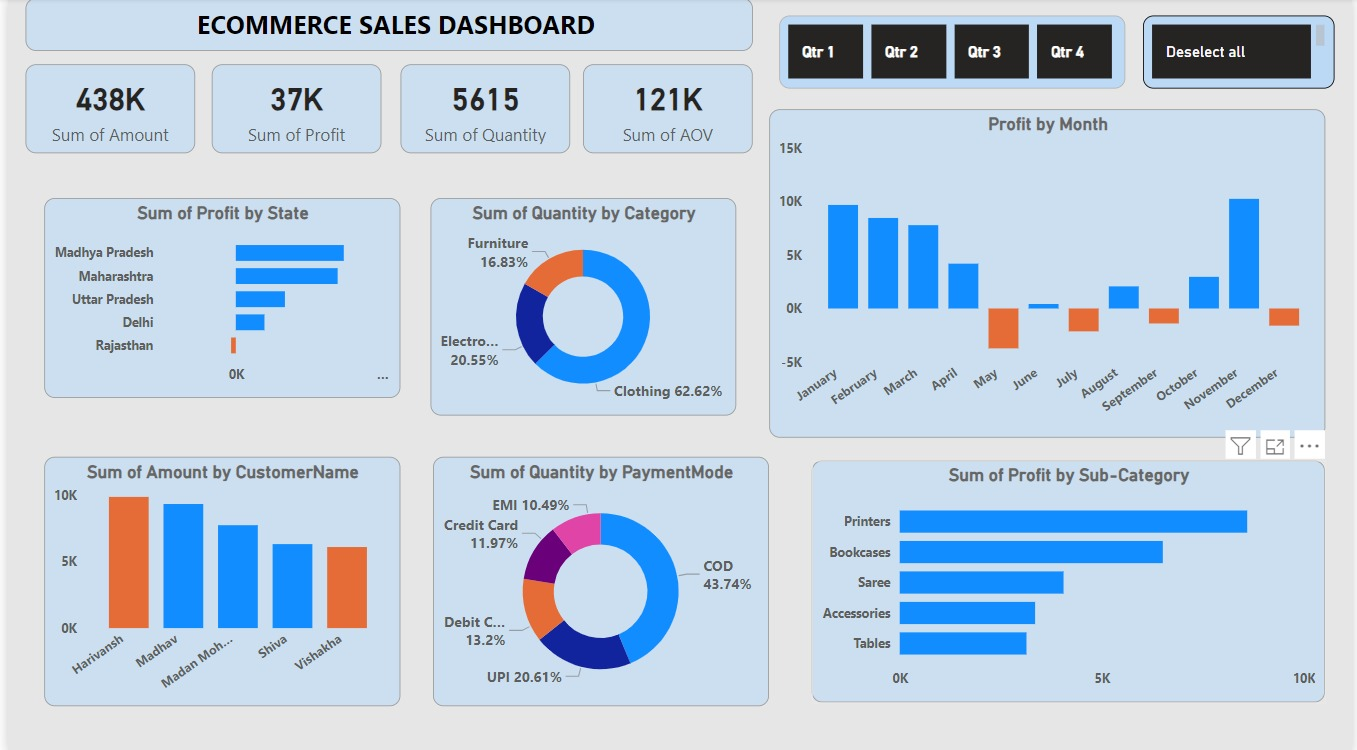

What the dashboard file says about the page in this screenshot:
{"tool":"powerbi","page":{"name":"Page 1","canvas":[1280,720],"ordinal":0},"visuals":[{"type":"textbox","box":[16.5,0,693,50.8],"z":0},{"type":"columnChart","title":"Profit by Month","fields":{"Category":["Orders.Order Date.Variation.Date Hierarchy.Month"],"Y":["Details.Profit"]},"box":[724.5,105.7,529.7,312.9],"z":1000},{"type":"barChart","fields":{"Category":["Details.Sub-Category"],"Y":["Details.Profit"]},"box":[765.7,440.5,488.5,230.5],"z":2000},{"type":"donutChart","fields":{"Category":["Details.Category"],"Y":["Details.Quantity"]},"box":[402.1,190.7,290.9,207.2],"z":3000},{"type":"donutChart","fields":{"Y":["Details.Quantity"],"Category":["Details.PaymentMode"]},"box":[404.8,436.4,319.7,237.4],"z":4000},{"type":"card","fields":{"Values":["Details.Amount"]},"box":[16.5,63.1,161.9,85.1],"z":5000},{"type":"card","fields":{"Values":["Details.Profit"]},"box":[193.5,63.1,161.9,85.1],"z":6000},{"type":"card","fields":{"Values":["Details.Quantity"]},"box":[373.2,63.1,161.9,85.1],"z":7000},{"type":"card","fields":{"Values":["Details.AOV"]},"box":[547.5,63.1,161.9,85.1],"z":8000},{"type":"barChart","fields":{"Category":["Orders.State"],"Y":["Details.Profit"]},"box":[34.3,190.7,338.9,190.7],"z":9000},{"type":"columnChart","fields":{"Category":["Orders.CustomerName"],"Y":["Details.Amount"]},"box":[34.3,436.4,338.9,237.4],"z":10000},{"type":"advancedSlicerVisual","fields":{"Values":["Orders.Order Date.Variation.Date Hierarchy.Quarter"]},"box":[734.1,16.5,329.3,70],"z":11000},{"type":"advancedSlicerVisual","fields":{"Values":["Orders.State"]},"box":[1081.3,16.5,182.5,70],"z":12000}]}

Visuals, with their boxes in screenshot pixels (x1, y1, x2, y2), scaled from the page's 1280x720 canvas onto the 1357x750 screenshot:
textbox: <box>17,0,752,53</box>
"Profit by Month" columnChart: <box>768,110,1330,436</box>
barChart - Details.Sub-Category x Details.Profit: <box>812,459,1330,699</box>
donutChart - Details.Category x Details.Quantity: <box>426,199,735,414</box>
donutChart - Details.Quantity x Details.PaymentMode: <box>429,455,768,702</box>
card - Details.Amount: <box>17,66,189,154</box>
card - Details.Profit: <box>205,66,377,154</box>
card - Details.Quantity: <box>396,66,567,154</box>
card - Details.AOV: <box>580,66,752,154</box>
barChart - Orders.State x Details.Profit: <box>36,199,396,397</box>
columnChart - Orders.CustomerName x Details.Amount: <box>36,455,396,702</box>
advancedSlicerVisual - Orders.Order Date.Variation.Date Hierarchy.Quarter: <box>778,17,1127,90</box>
advancedSlicerVisual - Orders.State: <box>1146,17,1340,90</box>
